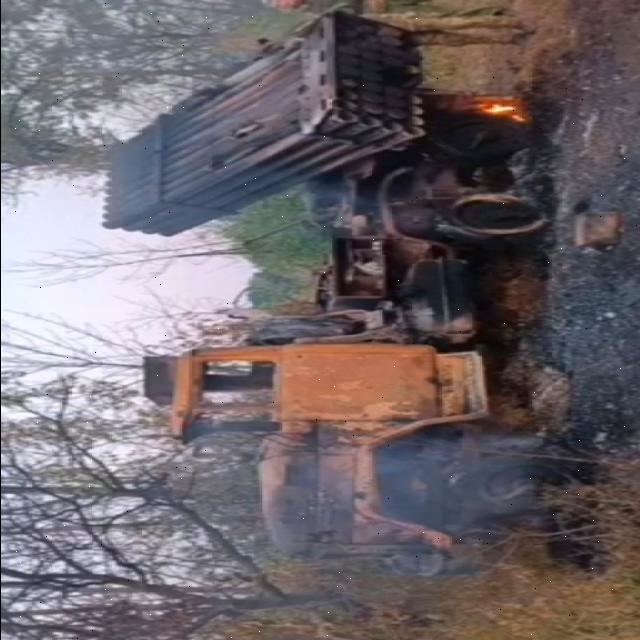MLRS: (84, 7, 595, 575)
